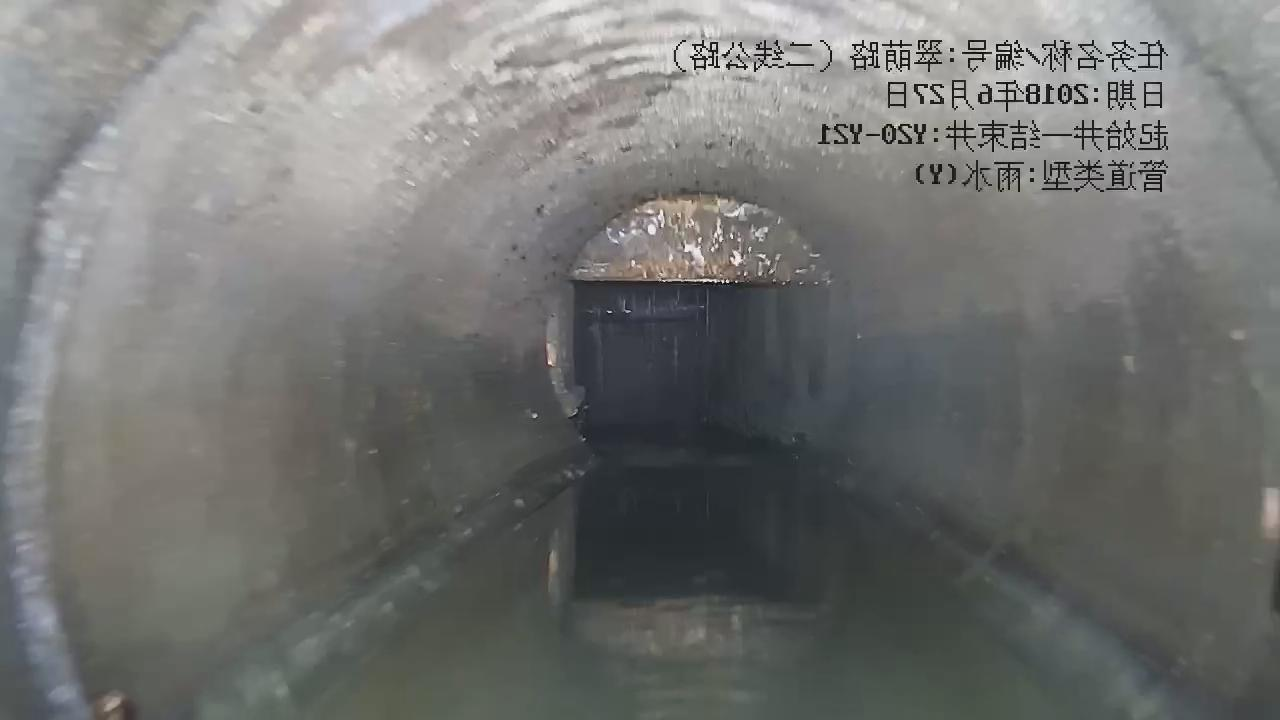YWCR: (571, 194, 828, 283)
